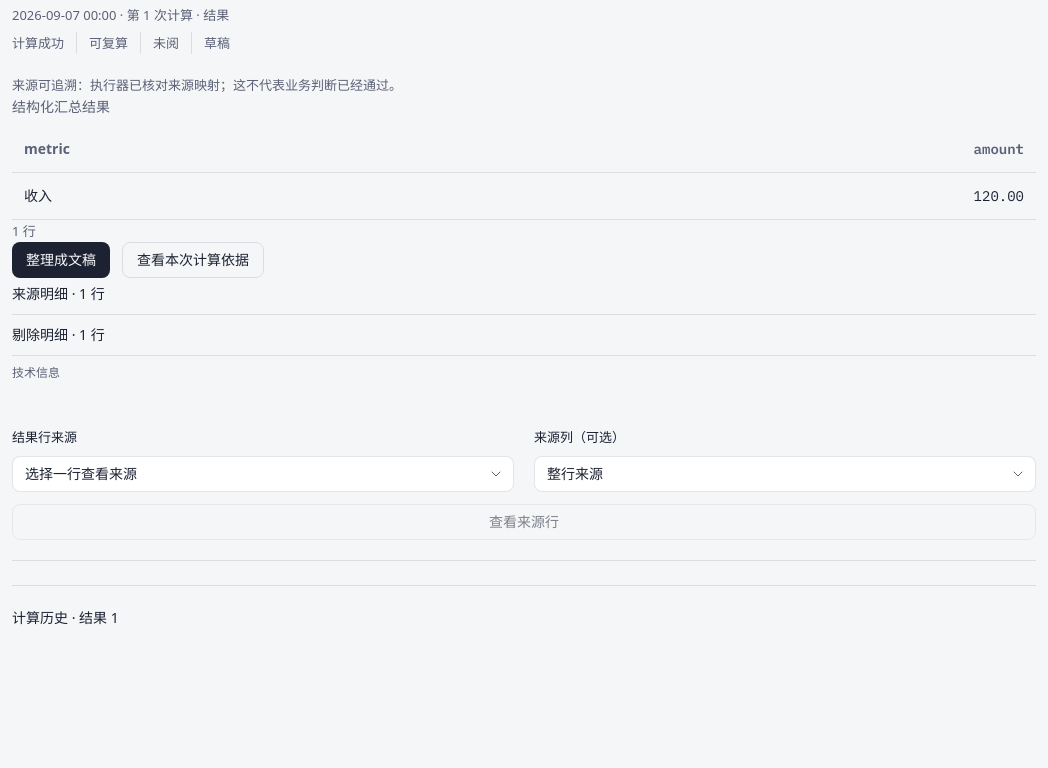
Scenario: RunPanel structured aggregate results › passes the selected structured detail section to source drilldown
The image size is (1048, 768).
Select "剔除 1 行 · 客户乙" in the dropdown labelled "结果行来源". click: (263, 474)
box: [12, 456, 514, 492]
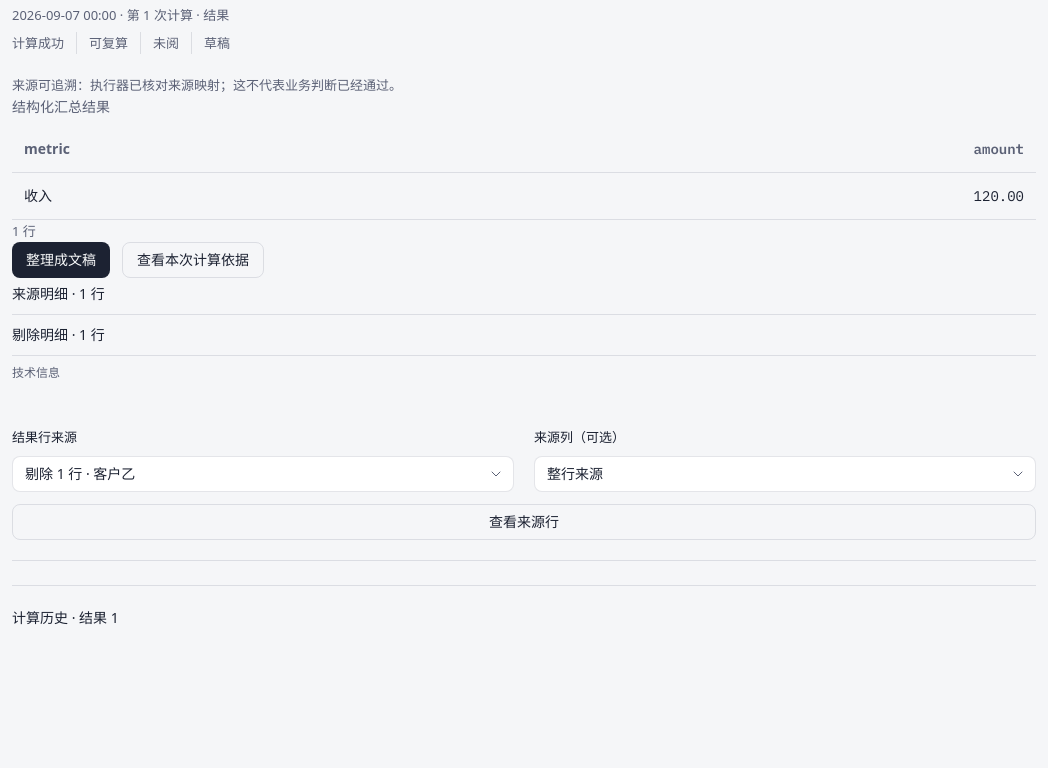
Click the button "查看来源行". click: (524, 522)
box: [12, 504, 1036, 540]
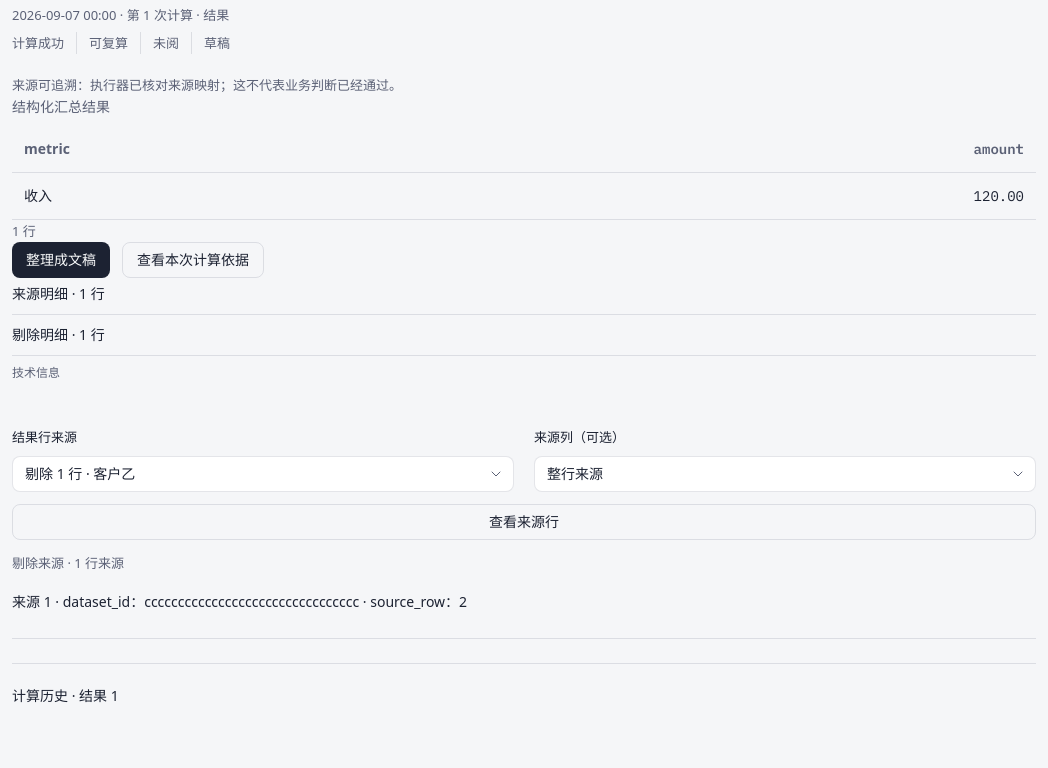
Check: the text "剔除来源 · 1 行来源" is shown, box [12, 554, 124, 572]
